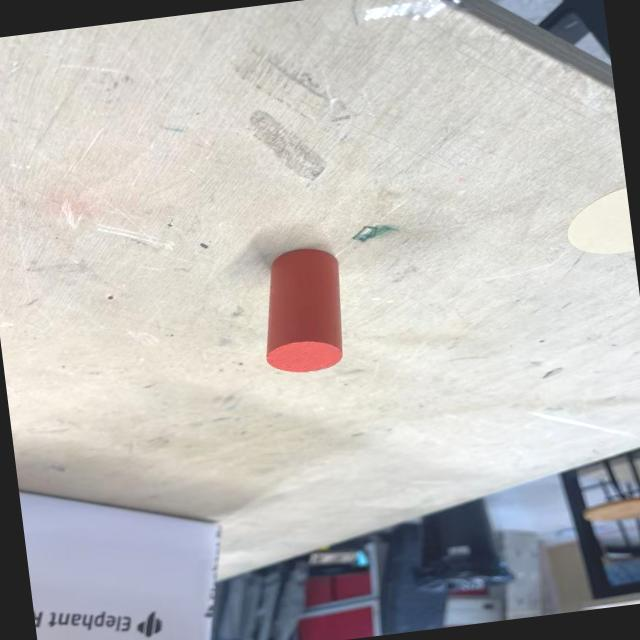red_cylinder: (252, 244, 352, 378)
